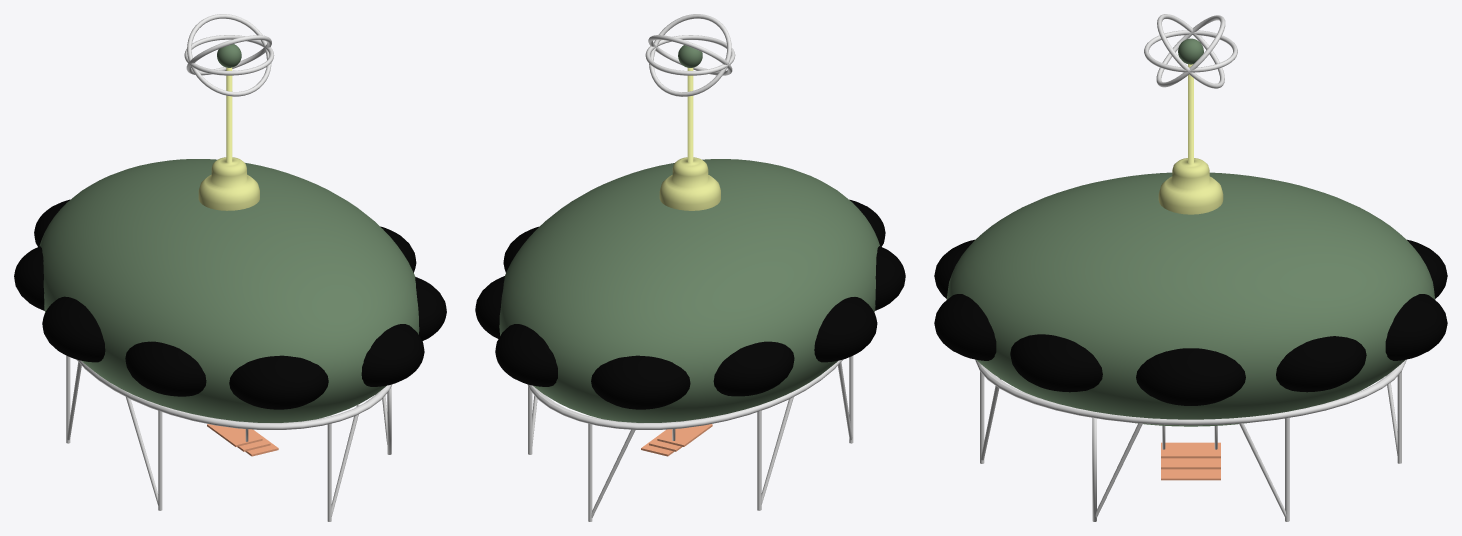
Rendered from Ovni.fbx.
3 renders of one model, left to right at view 1: azimuth 30°, elevation 25°; view 2: azimuth 150°, elevation 25°; view 3: azimuth 270°, elevation 25°, orthographic. The views are drawn at different scales.
Visible parts, largest first — view 1: Sphere; view 2: Sphere; view 3: Sphere.
Boxes of the visible parts, left/top/right/bottom form: Sphere: left=14, top=14, right=446, bottom=521; Sphere: left=475, top=14, right=905, bottom=521; Sphere: left=934, top=14, right=1447, bottom=521.
Bounding box in the file's own units: 525 × 591 × 623.
